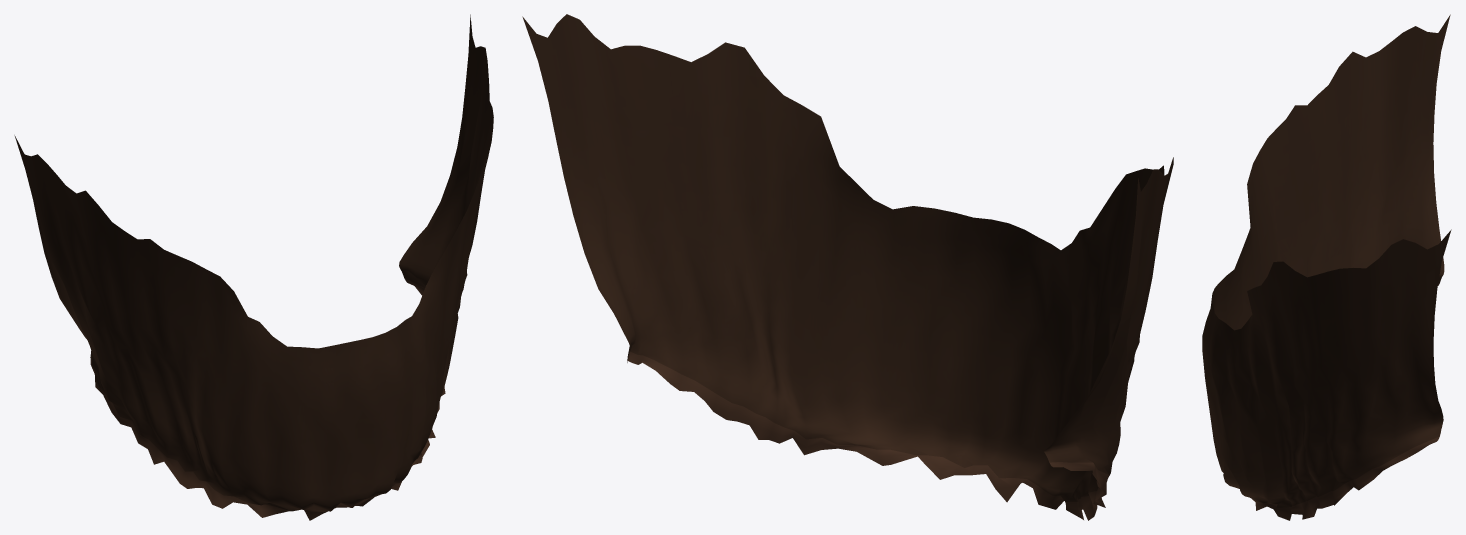
Rendered from vincentt-beard-full.glb.
3 views of the same model, side by side, from view 1: azimuth 30°, elevation 25°; view 2: azimuth 150°, elevation 25°; view 3: azimuth 270°, elevation 25° (orthographic). The views are drawn at different scales.
Visible parts, largest first — view 1: beard_full_clumps; view 2: beard_full_clumps; view 3: beard_full_clumps.
Boxes of the visible parts, x1,y1,x2,y2 form: beard_full_clumps: (14, 14, 493, 520); beard_full_clumps: (522, 14, 1173, 520); beard_full_clumps: (1202, 14, 1451, 520).
Size of what is drawn, in the model's own units: 0.1497 by 0.116 by 0.0705.
2 materials, 2 textured.
